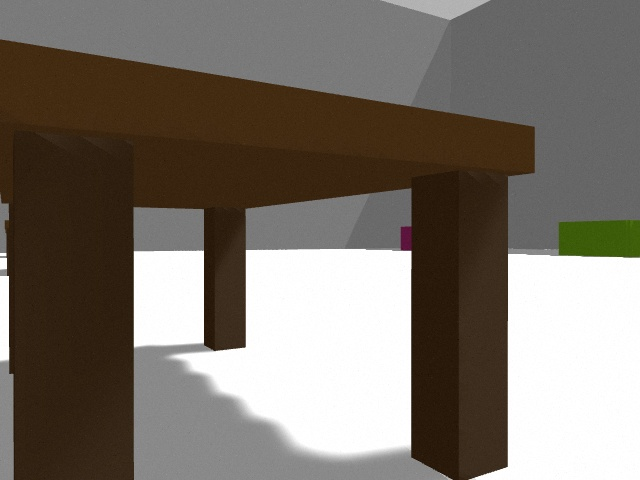green_drop_zone: (559, 220, 640, 257)
red_drop_zone: (401, 226, 411, 251)
